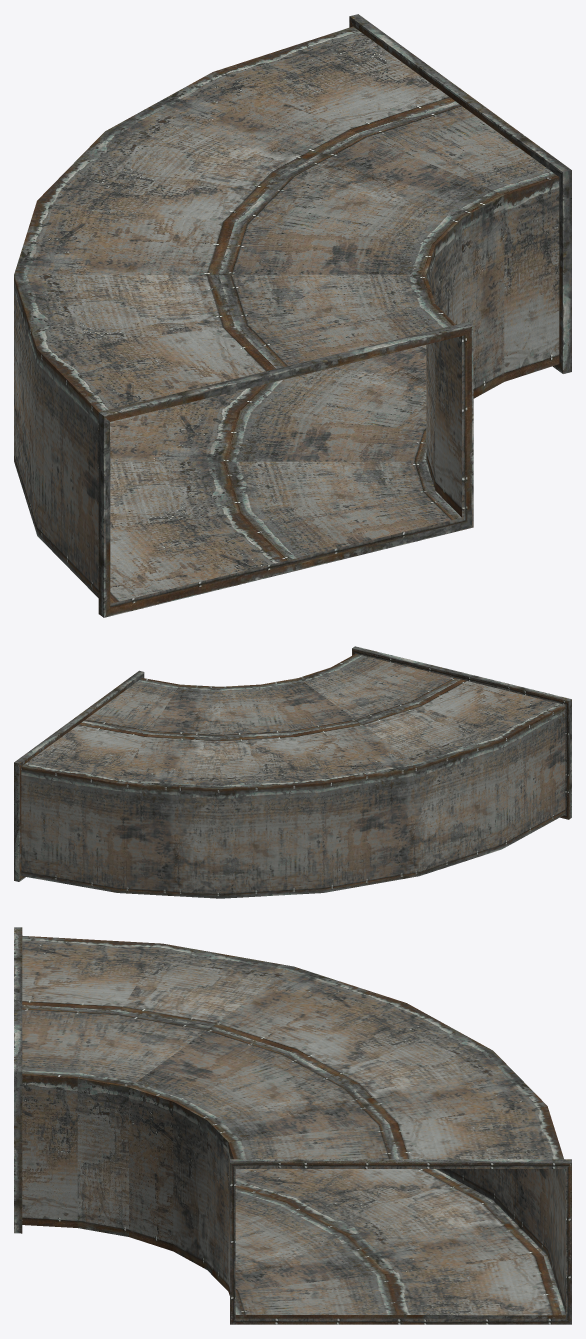
The model's file is FlatVentTurn.fbx.
The picture shows the model from 3 angles, top to bottom: view 1: azimuth 30°, elevation 25°; view 2: azimuth 150°, elevation 25°; view 3: azimuth 270°, elevation 25°; orthographic projection. The views are drawn at different scales.
Parts seen in each view (by area): view 1: mesh_0.2629; view 2: mesh_0.2629; view 3: mesh_0.2629.
Boxes of the visible parts, <box> form: mesh_0.2629: <box>14,14,571,617</box>; mesh_0.2629: <box>14,646,571,898</box>; mesh_0.2629: <box>14,927,571,1324</box>.
Bounding box in the file's own units: 3.38 × 1.08 × 3.38.
